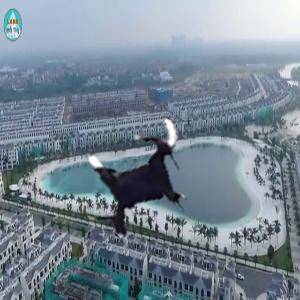drone: (63, 105, 208, 250)
